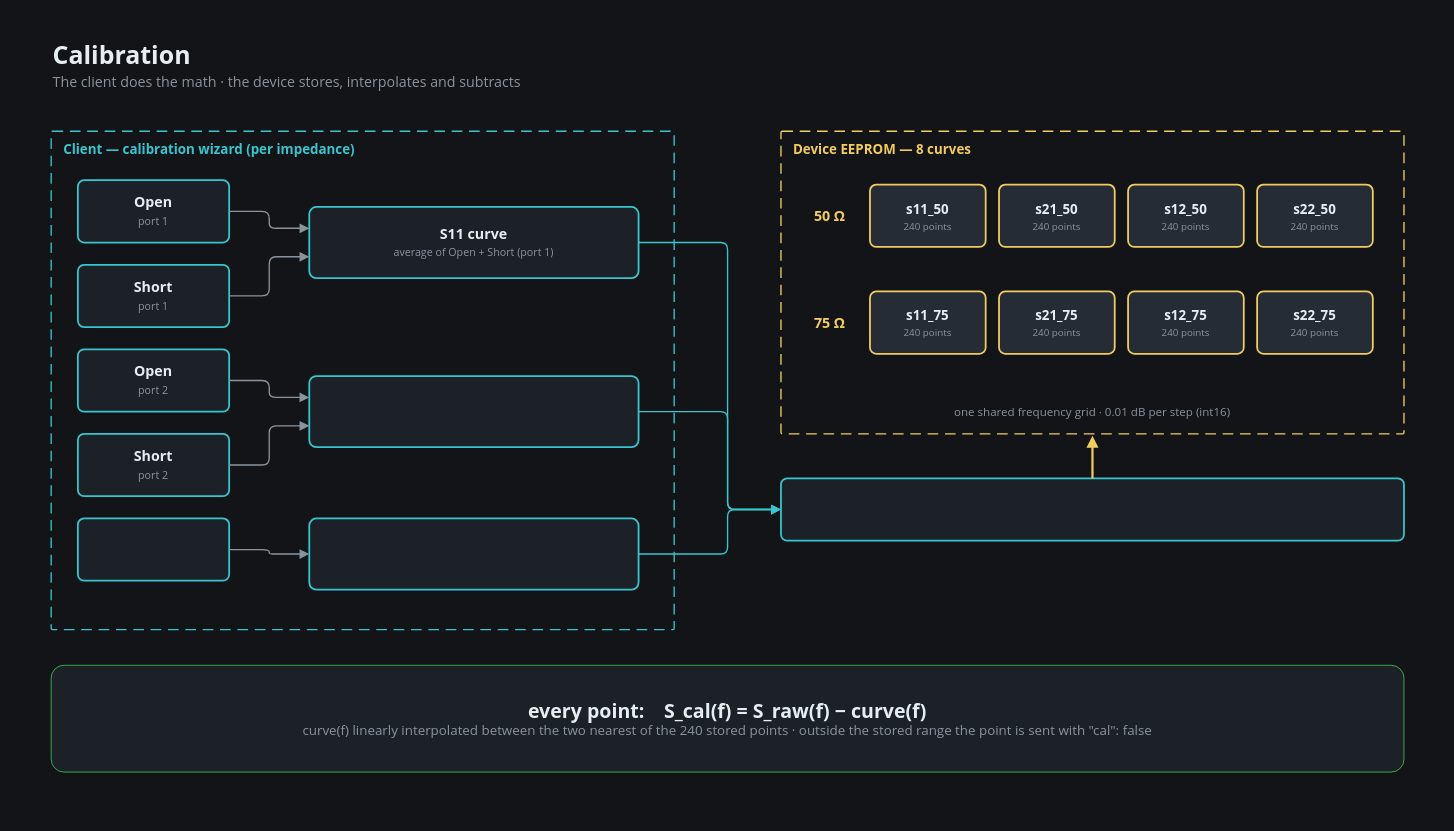
Image size: 1454x831. Some labels were removed from this diagram. The centre of each missing label's shape, as x and y in pixels:
"cal_set over USB upload the computed curve, not the raw sweeps" goes at (1092,509).
"S21 + S12 curves Thru reading directly" goes at (473,553).
"S22 curve average of Open + Short (port 2)" goes at (473,411).
"Thru port 1 ↔ 2" goes at (153,549).
